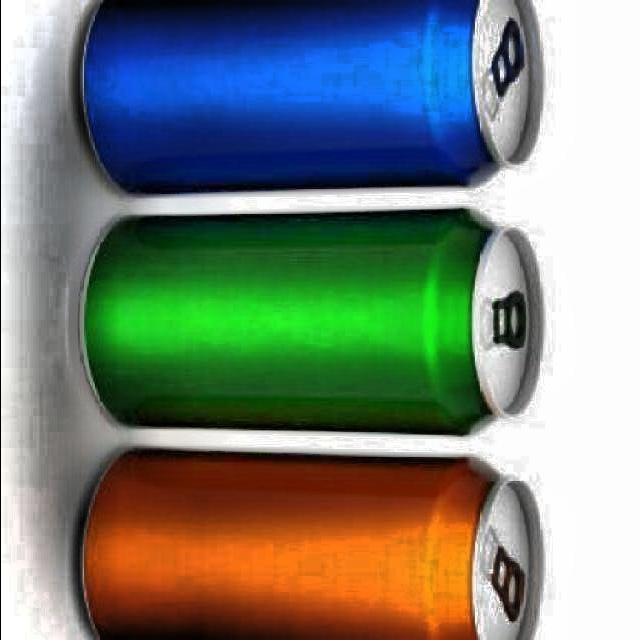litter: (76, 206, 548, 441), (71, 0, 548, 202), (76, 444, 548, 640)
